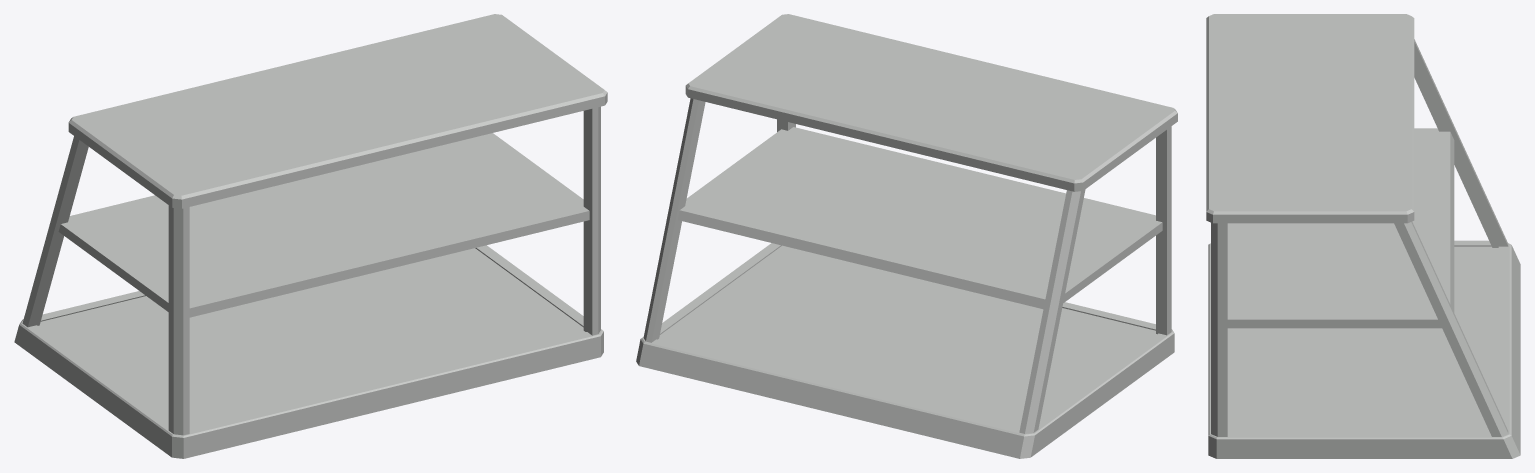
File: SM_Cart_Case_Trapez_01.fbx
3 renders of one model, left to right at view 1: azimuth 30°, elevation 25°; view 2: azimuth 150°, elevation 25°; view 3: azimuth 270°, elevation 25°, orthographic. The views are drawn at different scales.
Visible parts, largest first — view 1: SM_Cart_Case_Trapez_01; view 2: SM_Cart_Case_Trapez_01; view 3: SM_Cart_Case_Trapez_01.
Boxes of the visible parts, x1=… form: SM_Cart_Case_Trapez_01: x1=14, y1=14, x2=607, y2=458; SM_Cart_Case_Trapez_01: x1=636, y1=14, x2=1177, y2=458; SM_Cart_Case_Trapez_01: x1=1206, y1=14, x2=1520, y2=458.
Size of the model in its own units: 1.43 by 0.827 by 0.9525.
1 material, 1 textured.
